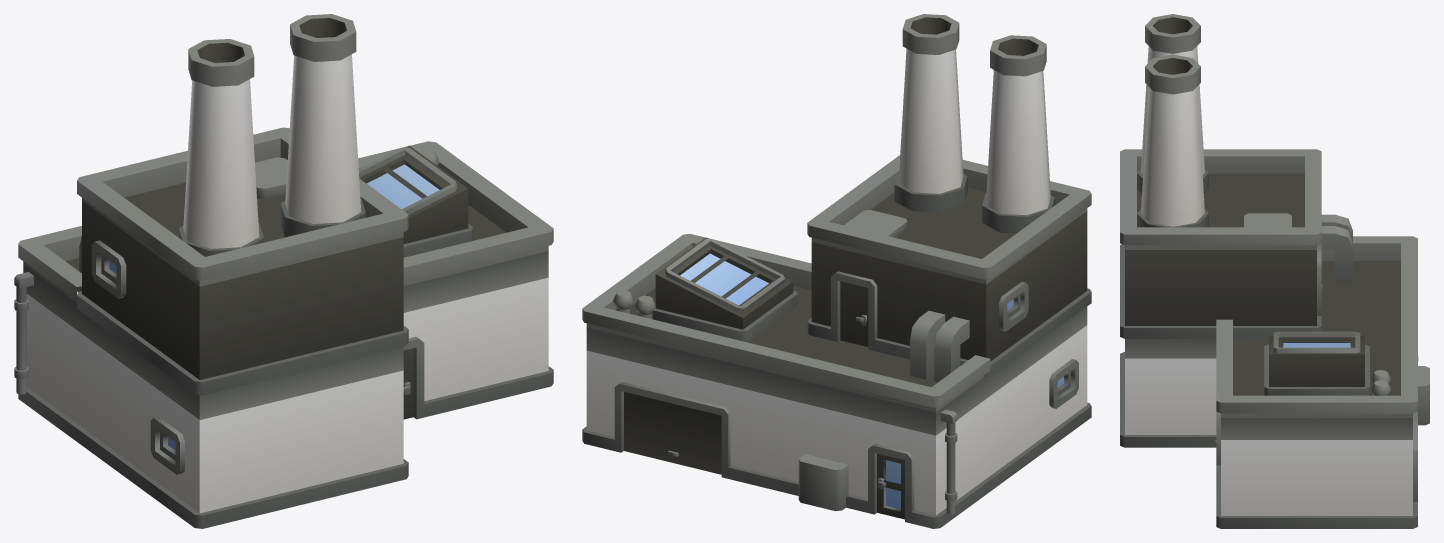
File: ind-building-e.glb
3 views of the same model, side by side, from view 1: azimuth 30°, elevation 25°; view 2: azimuth 150°, elevation 25°; view 3: azimuth 270°, elevation 25° (orthographic). The views are drawn at different scales.
Parts seen in each view (by area): view 1: building-e; view 2: building-e; view 3: building-e.
Part boxes in pixels (bbox=[...]): building-e: bbox=[14, 14, 553, 528]; building-e: bbox=[582, 14, 1091, 528]; building-e: bbox=[1120, 14, 1429, 528].
Bounding box in the file's own units: 1.68 × 1.65 × 1.29.
1 material, 1 textured.
